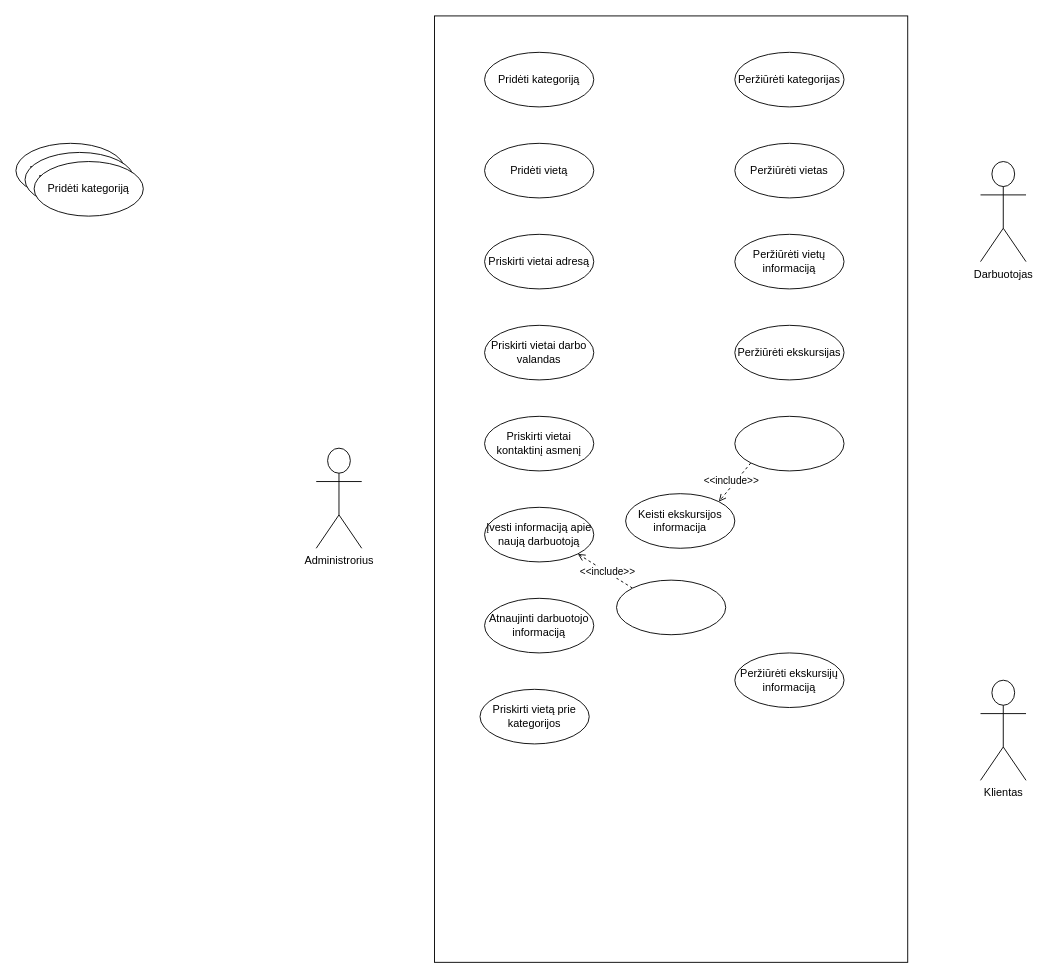
Some shapes in this 1048 by 978 pixel diagram are drawn without their labels. The shapes that lost their labels are listed below. From the top down, each one's box as (x1, y1, x2, y2) in pixels, then its label:
(734, 415, 844, 471): Keiti ekskursijos kainą
(616, 579, 726, 635): Ištrinti darbuotoją
